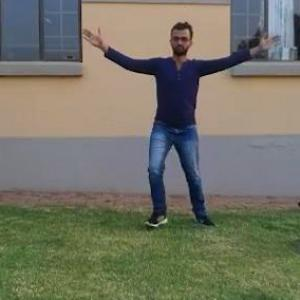takeoff: (76, 20, 254, 210)
